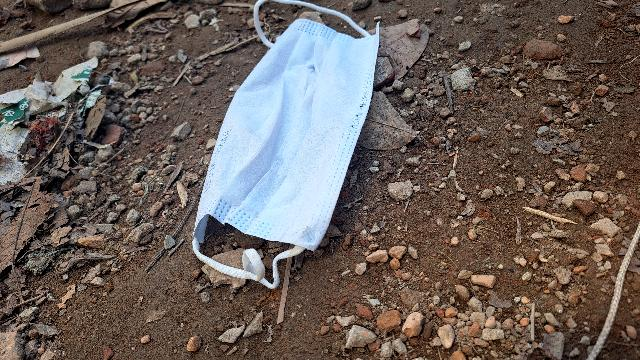mask: (188, 0, 396, 261)
